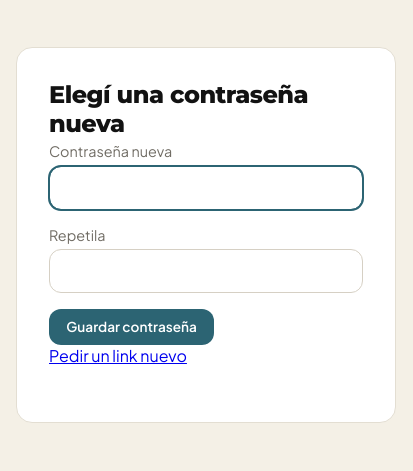
it: RestablecerPassword › no gasta el token si la contraseña es corta
Type "corta" into the password field labelled "Contraseña nueva" at (206, 188), box x1=49 y1=166 x2=363 y2=210
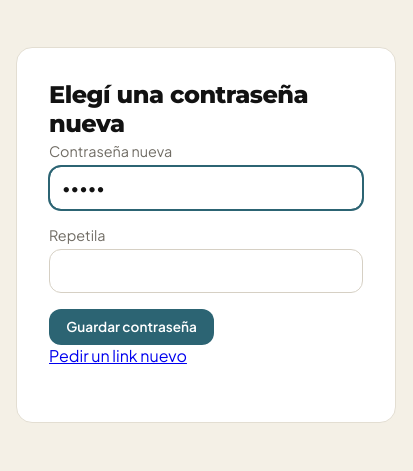
Type "corta" into the password field labelled "Repetila" at (206, 270), box x1=49 y1=248 x2=363 y2=292
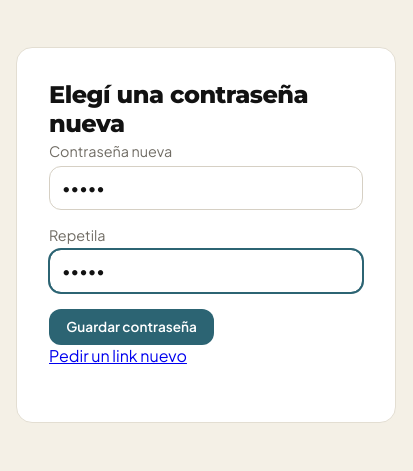
Click the button "Guardar contraseña" at (132, 326), box x1=49 y1=308 x2=214 y2=344
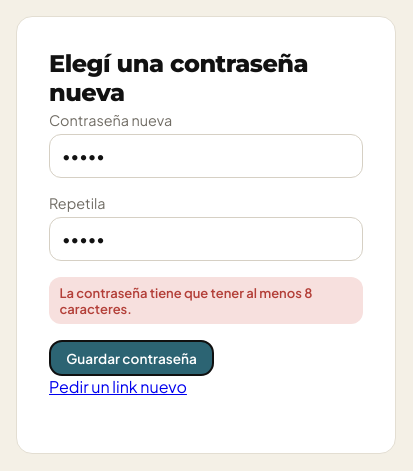
expect the message shows "al menos 8": met, box x1=59 y1=284 x2=312 y2=316
